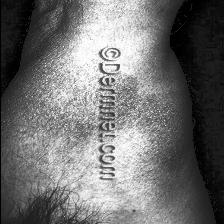Potentially Malignant Skin Tumors: (58, 74, 88, 150), (148, 100, 178, 164), (118, 79, 144, 134)
